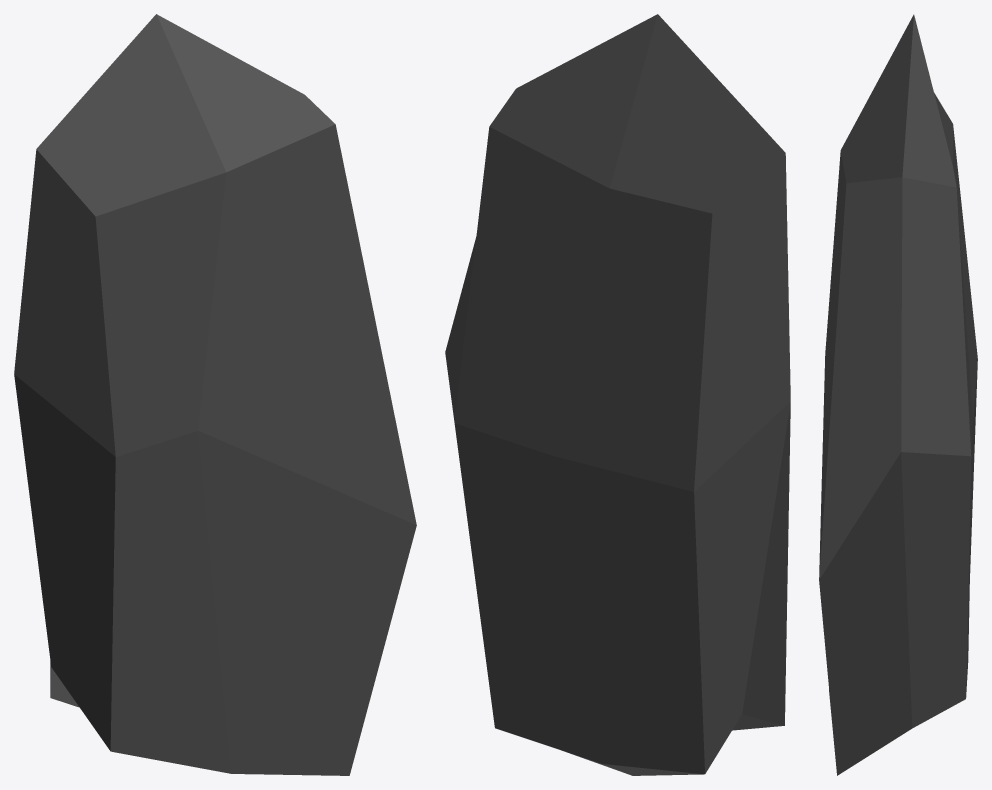
The model's file is Roca1.fbx.
3 renders of one model, left to right at view 1: azimuth 30°, elevation 25°; view 2: azimuth 150°, elevation 25°; view 3: azimuth 270°, elevation 25°, orthographic. The views are drawn at different scales.
Parts seen in each view (by area): view 1: Roca 1; view 2: Roca 1; view 3: Roca 1.
Boxes of the visible parts, <box> form: Roca 1: <box>14,14,416,775</box>; Roca 1: <box>445,14,790,775</box>; Roca 1: <box>819,14,977,775</box>.
Size of the model in its own units: 246 by 523 by 108.
Materials: 1 (1 with a texture image).
